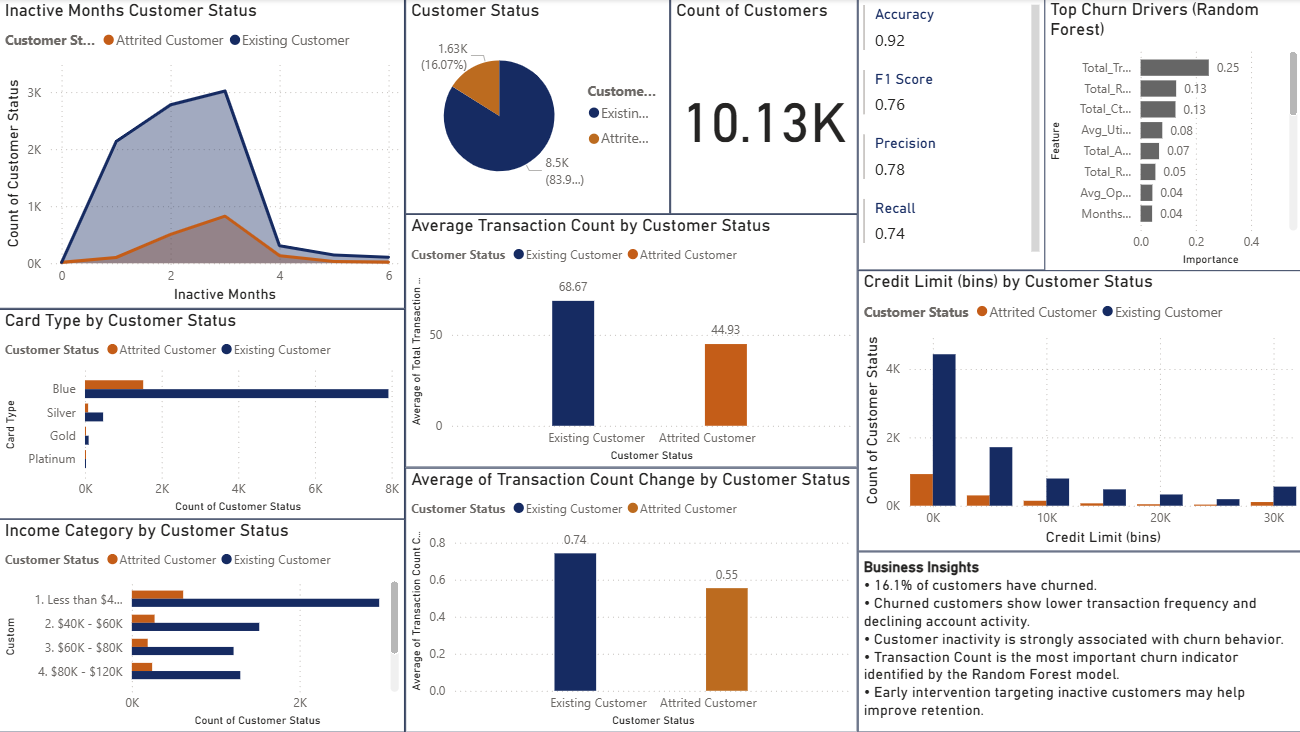

What the dashboard file says about the page in this screenshot:
{"tool":"powerbi","page":{"name":"Page 1","canvas":[1280,720],"ordinal":0},"visuals":[{"type":"pieChart","title":"Customer Status","fields":{"Category":["Bank Customer Churn Analysis & Prediction.Customer Status"],"Y":["CountNonNull(Bank Customer Churn Analysis & Prediction.Customer Status)"]},"box":[398.8,0,260.1,211],"z":0},{"type":"card","title":"Count of Customers","fields":{"Values":["CountNonNull(Bank Customer Churn Analysis & Prediction.Customer Status)"]},"box":[658.9,0,184.1,211],"z":1000},{"type":"clusteredBarChart","title":"Income Category by Customer Status","fields":{"Y":["CountNonNull(Bank Customer Churn Analysis & Prediction.Customer Status)"],"Series":["Bank Customer Churn Analysis & Prediction.Customer Status"],"Category":["Bank Customer Churn Analysis & Prediction.Custom"]},"box":[0,510.4,398.8,209.8],"z":2000},{"type":"clusteredColumnChart","title":"Average Transaction Count by Customer Status","fields":{"Category":["Bank Customer Churn Analysis & Prediction.Customer Status"],"Y":["Avg(Bank Customer Churn Analysis & Prediction.Total Transaction Count)"],"Series":["Bank Customer Churn Analysis & Prediction.Customer Status"]},"box":[398.8,211,444.2,249.1],"z":3000},{"type":"areaChart","title":"Inactive Months Customer Status ","fields":{"Category":["Bank Customer Churn Analysis & Prediction.Inactive Months"],"Y":["CountNonNull(Bank Customer Churn Analysis & Prediction.Customer Status)"],"Series":["Bank Customer Churn Analysis & Prediction.Customer Status"]},"box":[0,0,398.8,304.3],"z":4000},{"type":"clusteredBarChart","title":"Card Type by Customer Status ","fields":{"Category":["Bank Customer Churn Analysis & Prediction.Card Type"],"Y":["CountNonNull(Bank Customer Churn Analysis & Prediction.Customer Status)"],"Series":["Bank Customer Churn Analysis & Prediction.Customer Status"]},"box":[0,304.3,398.8,206.1],"z":5000},{"type":"clusteredColumnChart","title":"Average of Transaction Count Change by Customer Status","fields":{"Category":["Bank Customer Churn Analysis & Prediction.Customer Status"],"Y":["Avg(Bank Customer Churn Analysis & Prediction.Transaction Count Change)"],"Series":["Bank Customer Churn Analysis & Prediction.Customer Status"]},"box":[398.8,460.1,444.2,260.1],"z":6000},{"type":"clusteredBarChart","title":"Top Churn Drivers (Random Forest)","fields":{"Category":["feature_importance.Feature"],"Y":["Sum(feature_importance.Importance)"]},"box":[1027,0,252.8,266.3],"z":7000},{"type":"textbox","box":[842.9,542.3,436.8,177.9],"z":8000},{"type":"multiRowCard","title":"ML metrics (Random Forest)","fields":{"Values":["Sheet1.Metric","Sum(Sheet1.Value)"]},"box":[842.9,0,184.1,266.3],"z":9000},{"type":"clusteredColumnChart","title":"Credit Limit (bins) by Customer Status","fields":{"Category":["Bank Customer Churn Analysis & Prediction.Credit Limit (bins)"],"Y":["CountNonNull(Bank Customer Churn Analysis & Prediction.Customer Status)"],"Series":["Bank Customer Churn Analysis & Prediction.Customer Status"]},"box":[842.9,266.3,436.8,276.1],"z":9001}]}

Visuals, with their boxes in screenshot pixels (x1, y1, x2, y2), scaled from the page's 1280x720 canvas onto the 1300x732 screenshot:
"Customer Status" pieChart: [405,0,669,215]
"Count of Customers" card: [669,0,856,215]
"Income Category by Customer Status" clusteredBarChart: [0,519,405,731]
"Average Transaction Count by Customer Status" clusteredColumnChart: [405,215,856,468]
"Inactive Months Customer Status " areaChart: [0,0,405,309]
"Card Type by Customer Status " clusteredBarChart: [0,309,405,519]
"Average of Transaction Count Change by Customer Status" clusteredColumnChart: [405,468,856,731]
"Top Churn Drivers (Random Forest)" clusteredBarChart: [1043,0,1299,271]
textbox: [856,551,1299,731]
"ML metrics (Random Forest)" multiRowCard: [856,0,1043,271]
"Credit Limit (bins) by Customer Status" clusteredColumnChart: [856,271,1299,551]
